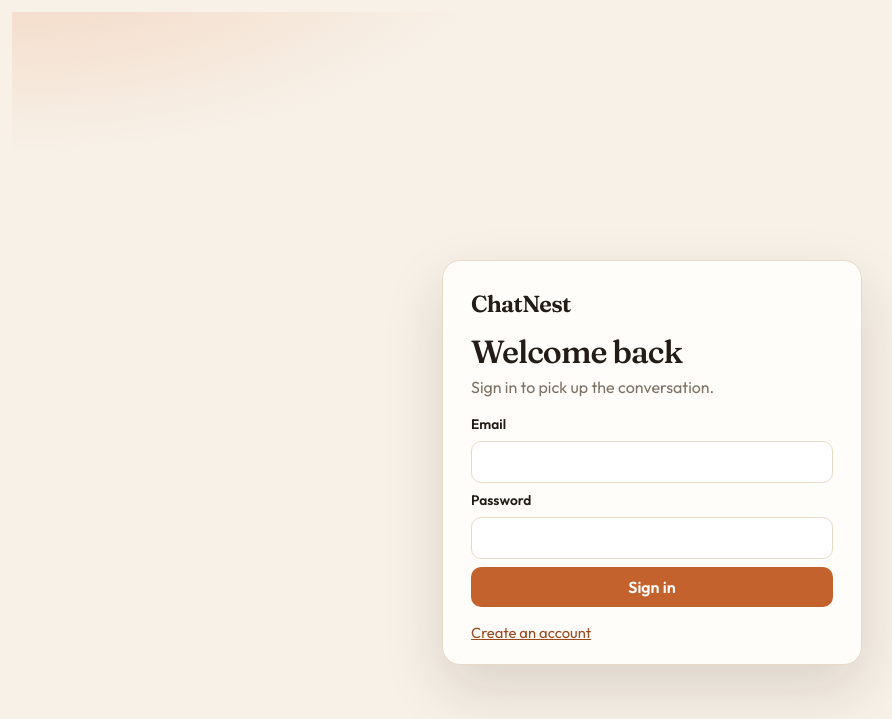
signs in and stores the token
Type "alice@example.com" into the field labelled "Email".
click(652, 462); type("alice@example.com")  # box x1=471 y1=440 x2=833 y2=482
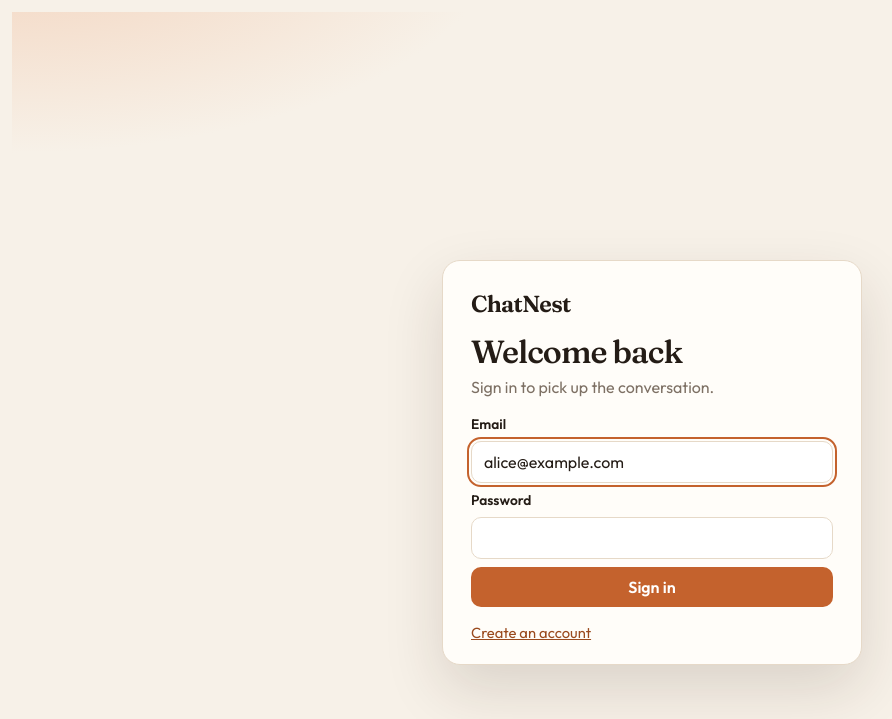
Type "password123" into the password field labelled "Password".
click(652, 538); type("password123")  # box x1=471 y1=516 x2=833 y2=558
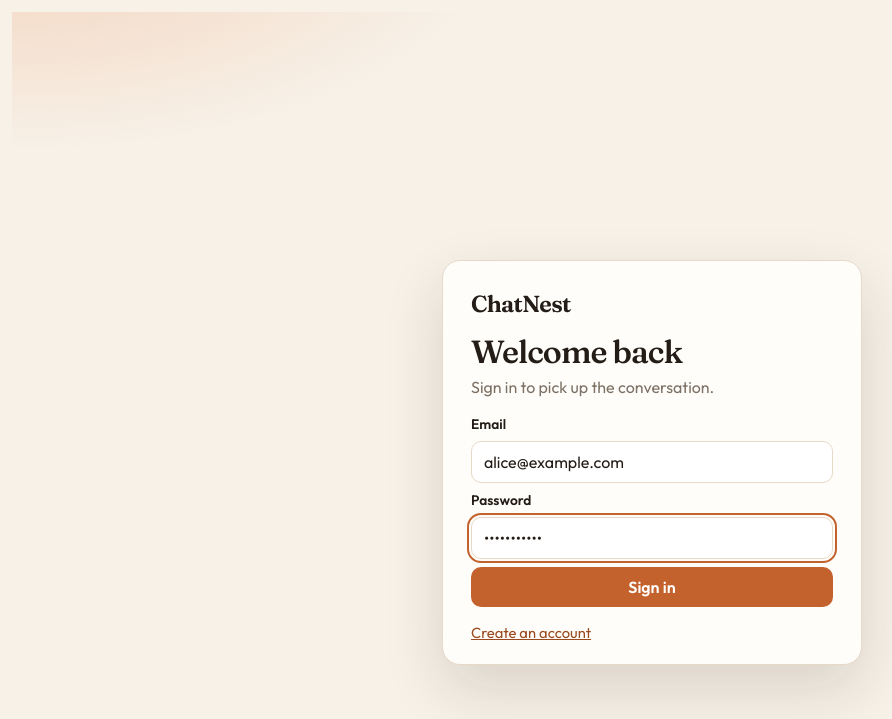
Click the button "Sign in".
click(652, 586)  # box x1=471 y1=566 x2=833 y2=606
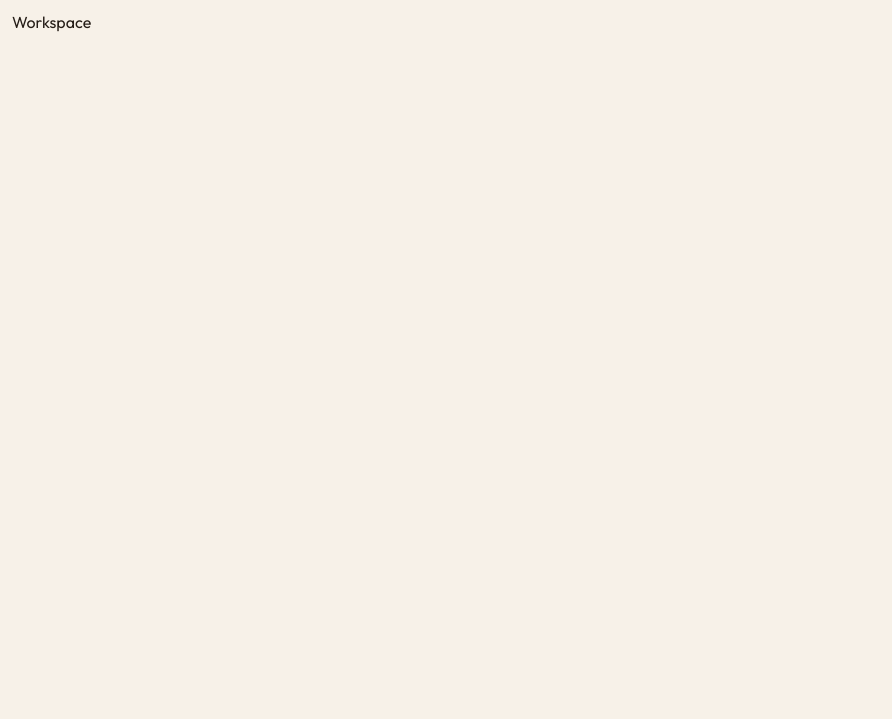
Check: the text "Workspace" is shown, box x1=12 y1=12 x2=91 y2=32
